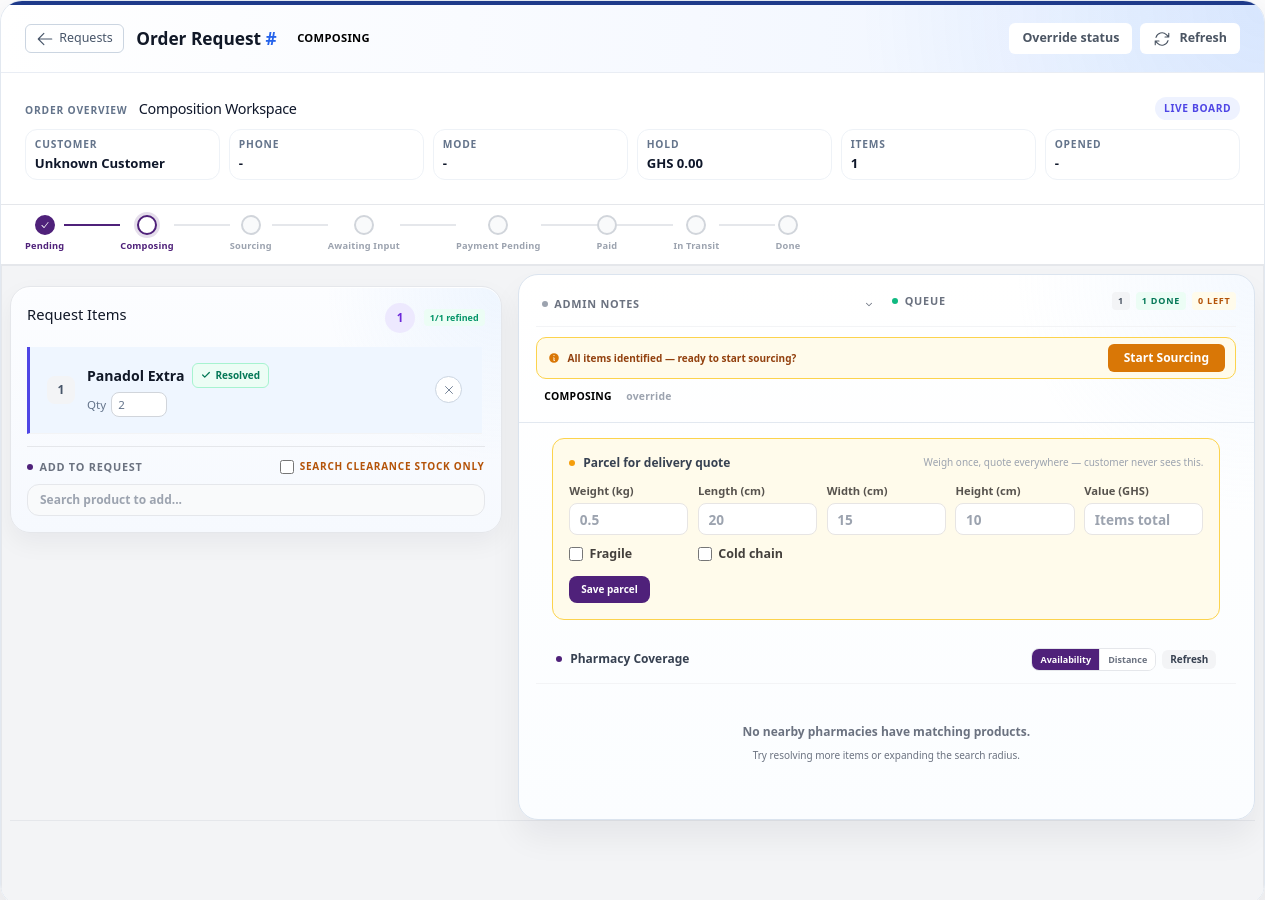
Test: compose: adding an item › says so when the item cannot be added
The width and height of the screenshot is (1280, 900).
Type "Amoxicillin" into the field with placeholder "Search product to add..." at [256, 500], box x1=27 y1=484 x2=485 y2=516
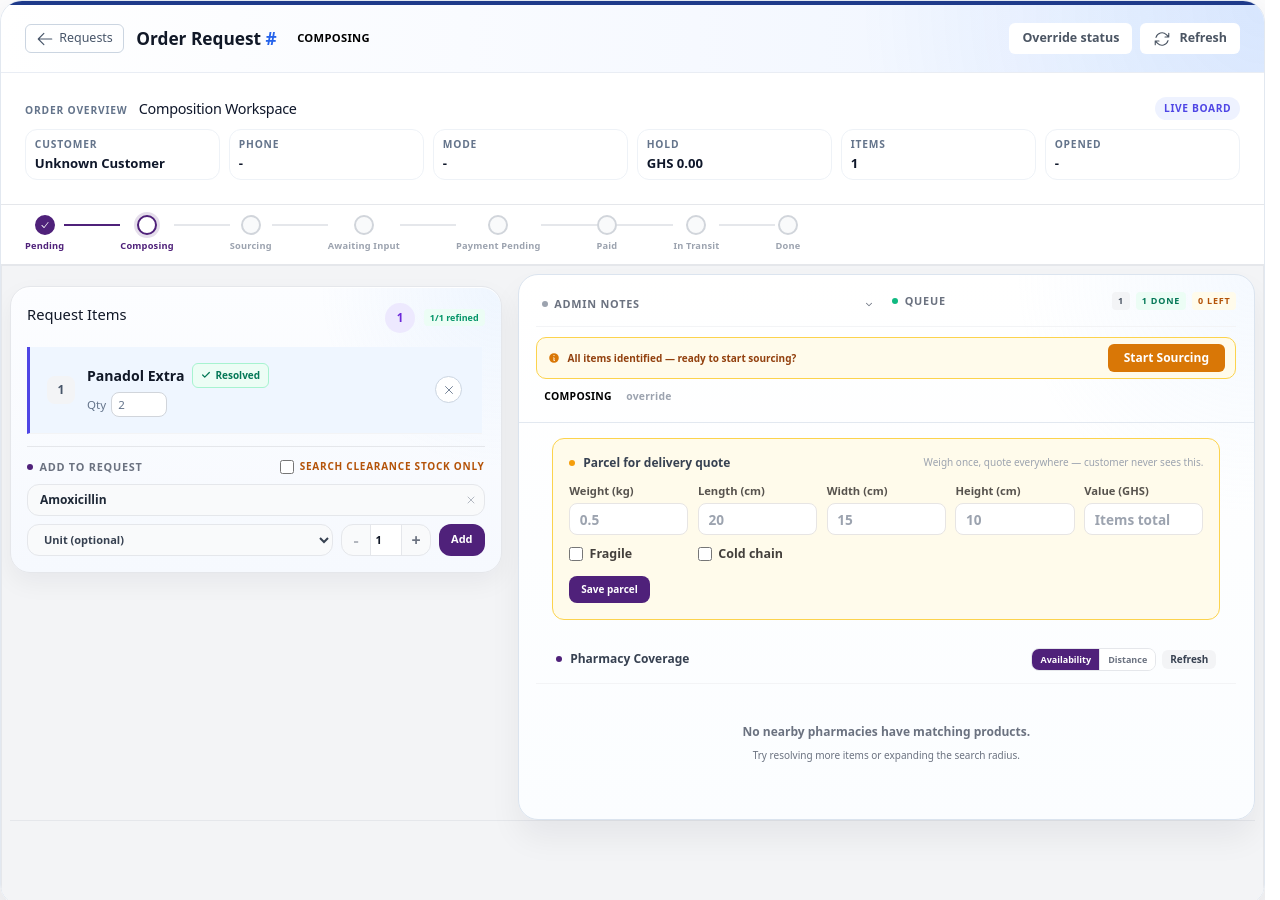
Click the button "Add" at [462, 540], box x1=439 y1=524 x2=485 y2=556
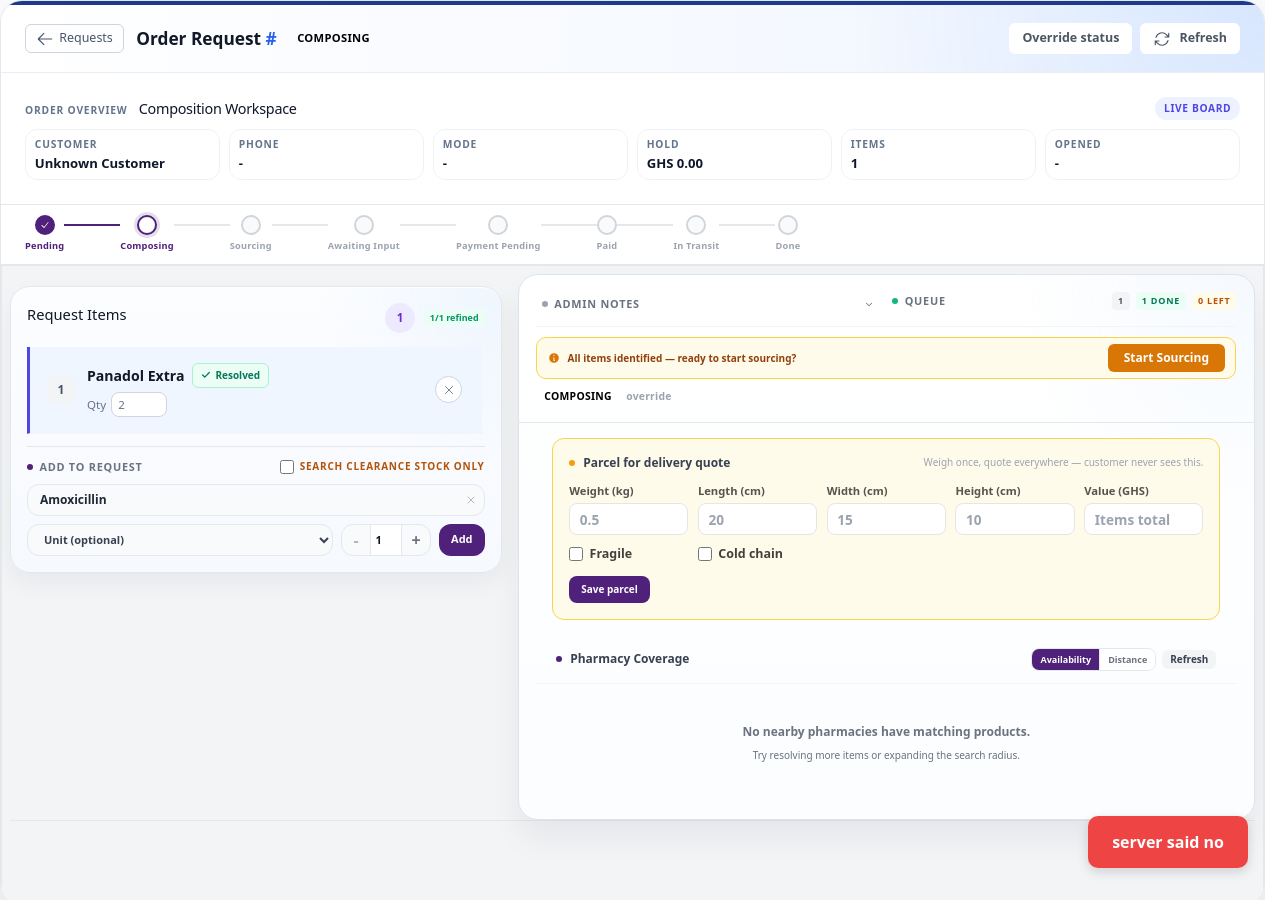
Result: the text "server said no" is shown at x1=1088 y1=816 x2=1248 y2=868
